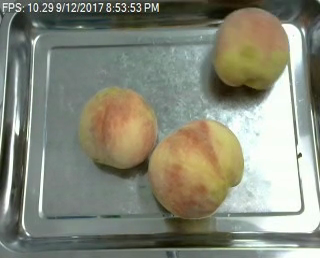Peach: (147, 118, 244, 218), (78, 86, 159, 169), (213, 5, 289, 91)
